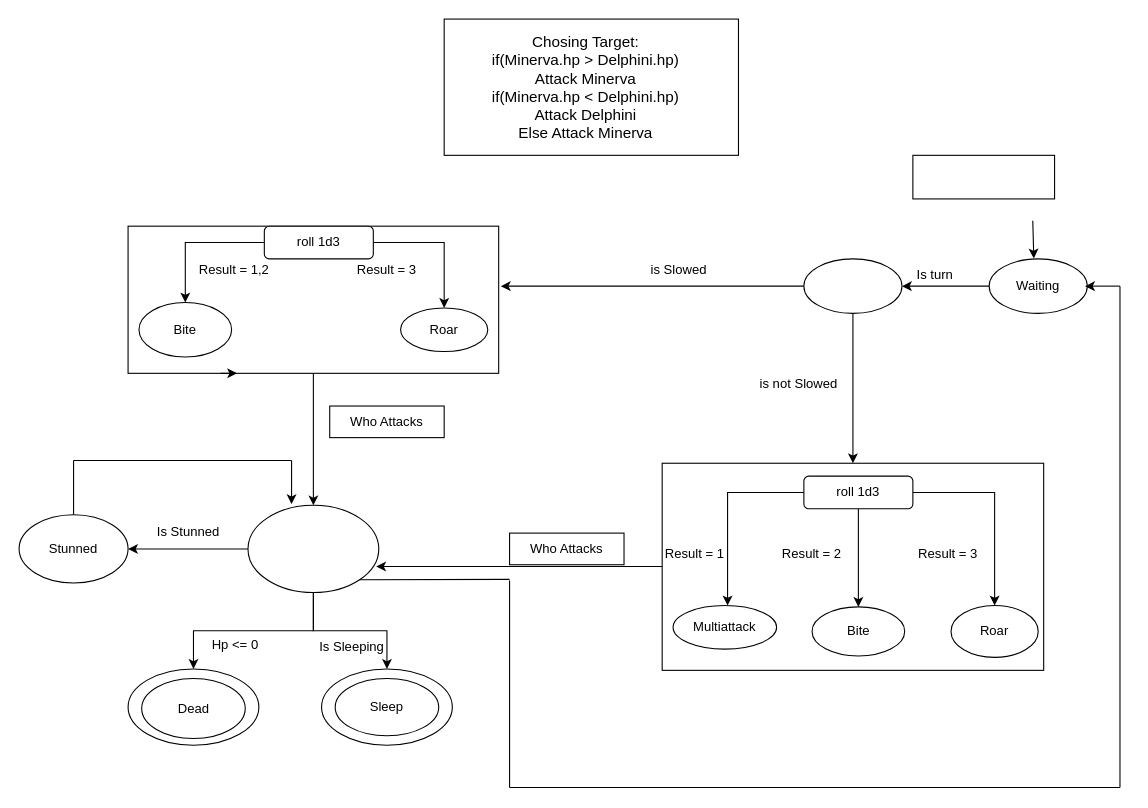
The diagram is 1148 pixels wide and 808 high, and some of its shapes have lost their labels. The centre of each missing label's shape, as x and y in pixels:
"Attack" belongs at [852,285].
"Combat mode" belongs at [983,176].
"Enemy turn" belongs at [313,548].
